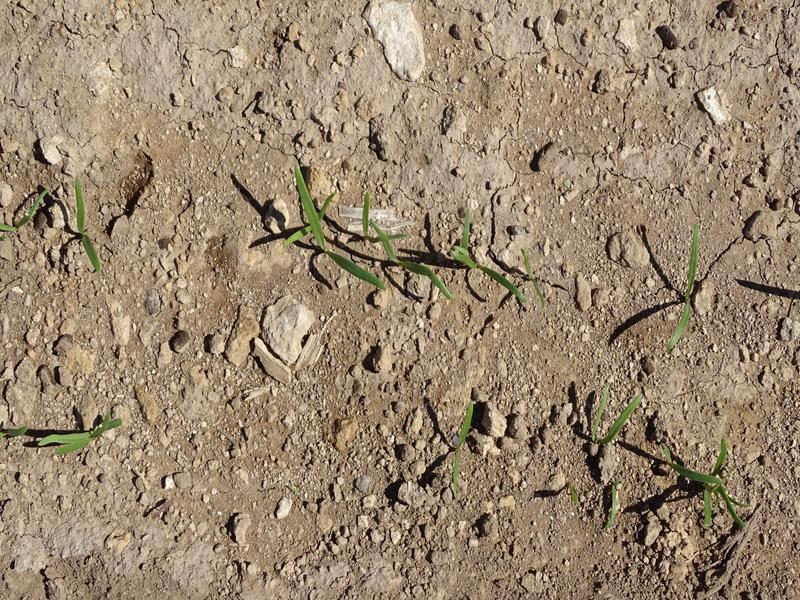Espinaca: (290, 176, 527, 301), (659, 448, 746, 522), (670, 223, 705, 344), (45, 417, 125, 458), (73, 177, 104, 275), (585, 385, 640, 439), (451, 402, 480, 489), (1, 187, 52, 234)
